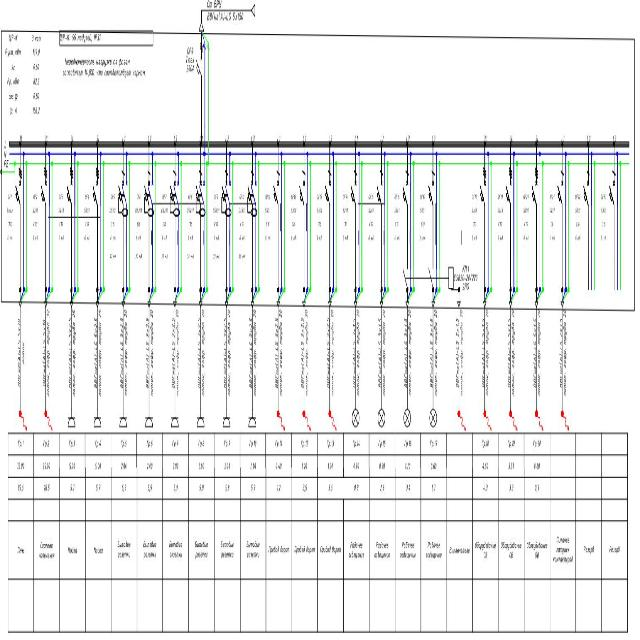-: (59, 31, 102, 44), (186, 207, 195, 261), (237, 207, 246, 261), (109, 206, 118, 260), (212, 207, 221, 261), (134, 207, 143, 261), (454, 273, 478, 293), (160, 206, 168, 261), (30, 205, 40, 243), (365, 205, 374, 247), (341, 204, 350, 246), (56, 205, 66, 242), (316, 204, 324, 246), (264, 204, 272, 246), (83, 206, 92, 243), (290, 204, 298, 245), (574, 205, 582, 242), (549, 205, 557, 242), (522, 203, 530, 240), (393, 206, 401, 243), (6, 206, 14, 243), (471, 204, 478, 242), (419, 206, 426, 243), (600, 205, 607, 242), (497, 205, 504, 242), (185, 54, 195, 73)
KM: (401, 264, 455, 292)
QF: (479, 166, 487, 210), (92, 167, 100, 211), (66, 166, 74, 210), (40, 167, 48, 211), (530, 167, 538, 210), (505, 168, 513, 211), (608, 168, 616, 210), (556, 169, 564, 211), (401, 169, 409, 211), (350, 169, 358, 211), (324, 169, 332, 211), (299, 168, 307, 210), (272, 169, 280, 211), (582, 170, 590, 211), (428, 170, 436, 211), (376, 169, 384, 210), (195, 42, 204, 78), (15, 167, 22, 210)
QFD: (194, 170, 206, 218), (246, 170, 258, 217), (221, 170, 233, 217), (170, 170, 182, 217), (142, 170, 154, 217), (117, 170, 129, 217)
